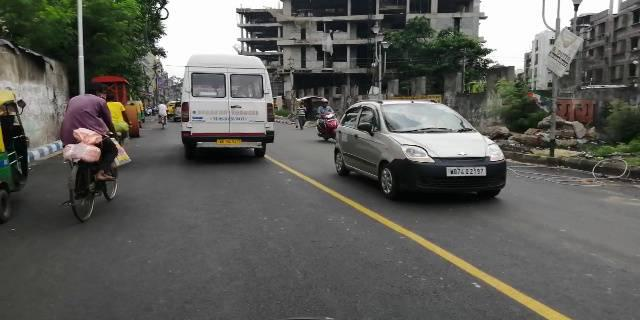Autorickshaw: (1, 90, 32, 221)
Car: (331, 95, 508, 208)
Cycle: (54, 84, 126, 225)
Motorbike: (313, 97, 340, 144)
Van: (178, 50, 279, 165)
